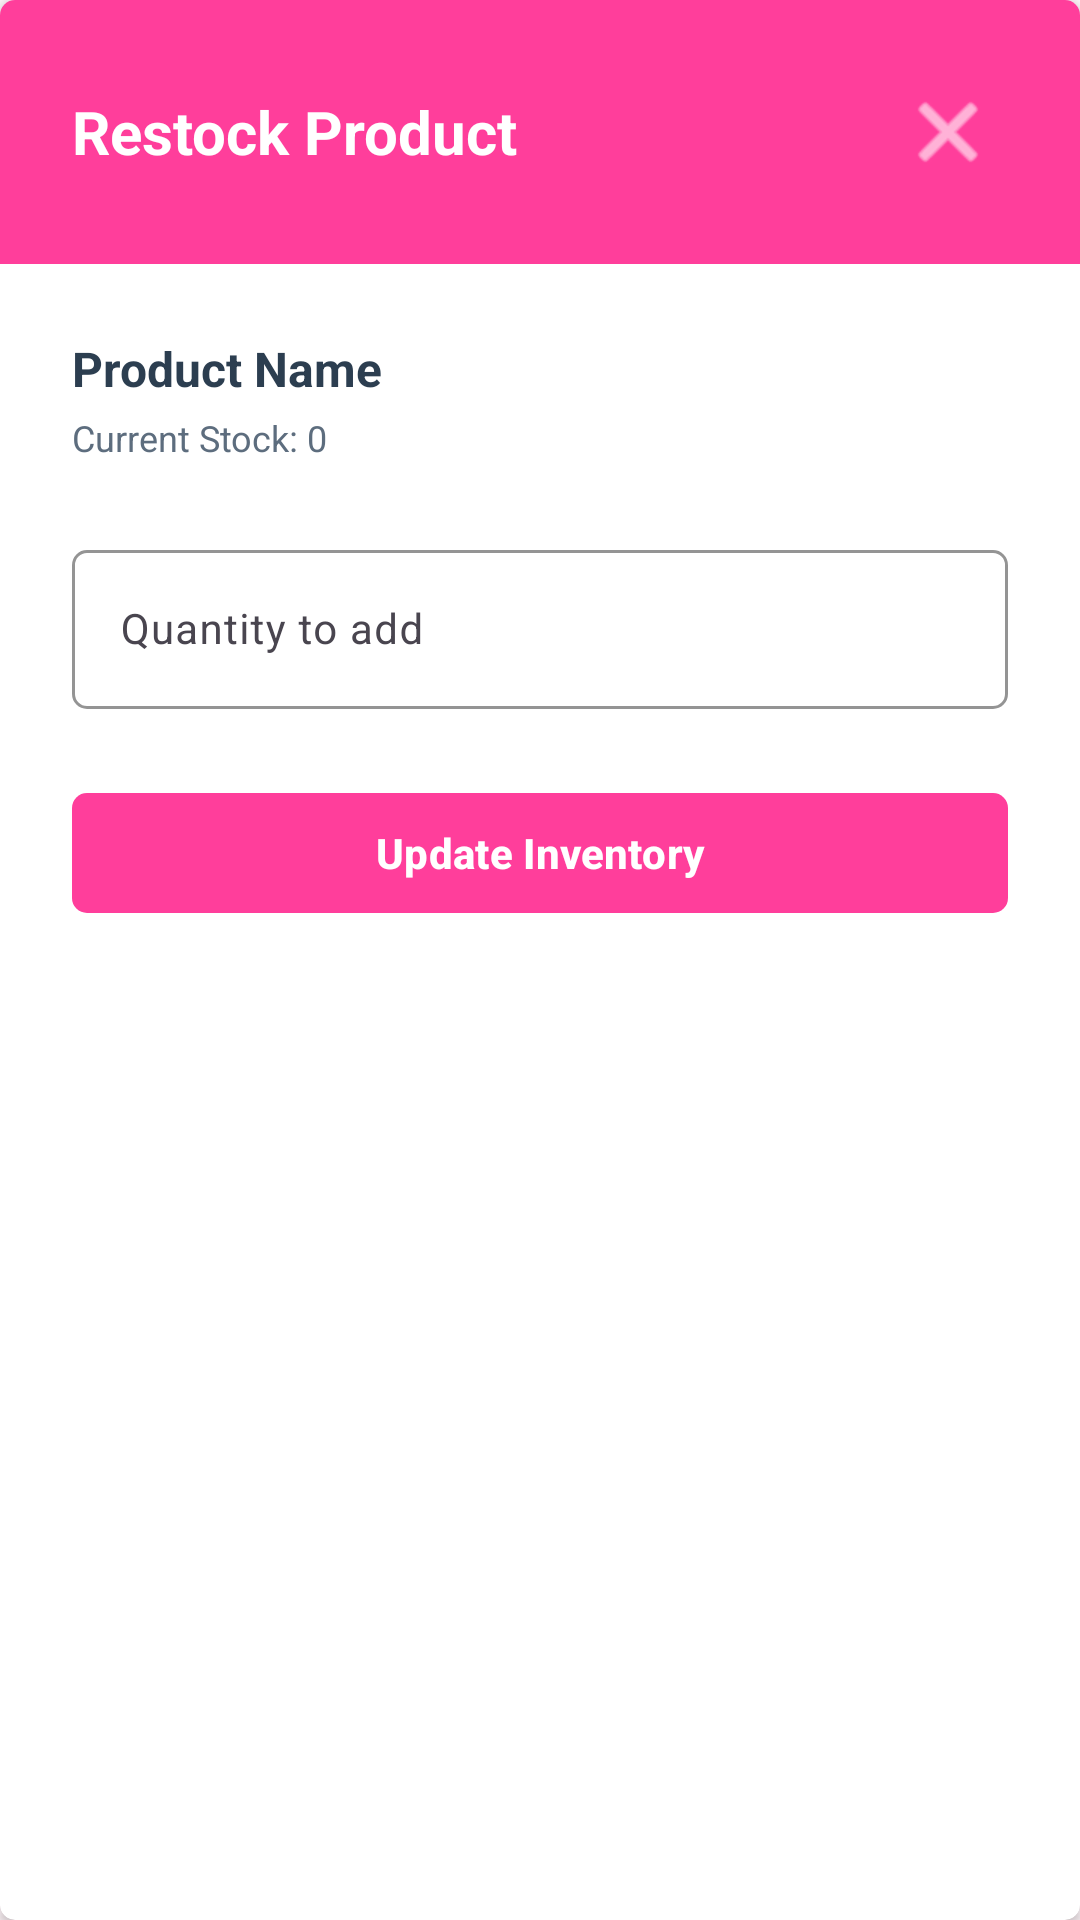

Locate icon controls on the screen. Image size 1080 × 1920, boxes as Rect(x1, y1, x2, y2).
Close: Rect(918, 102, 978, 162)
